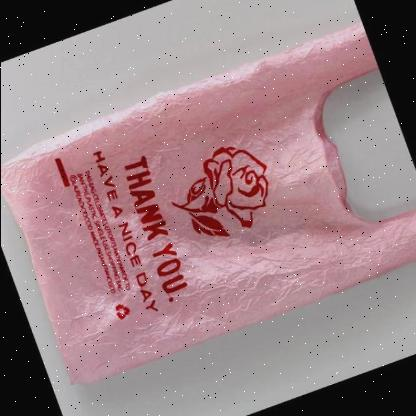Others: (0, 20, 414, 386)
